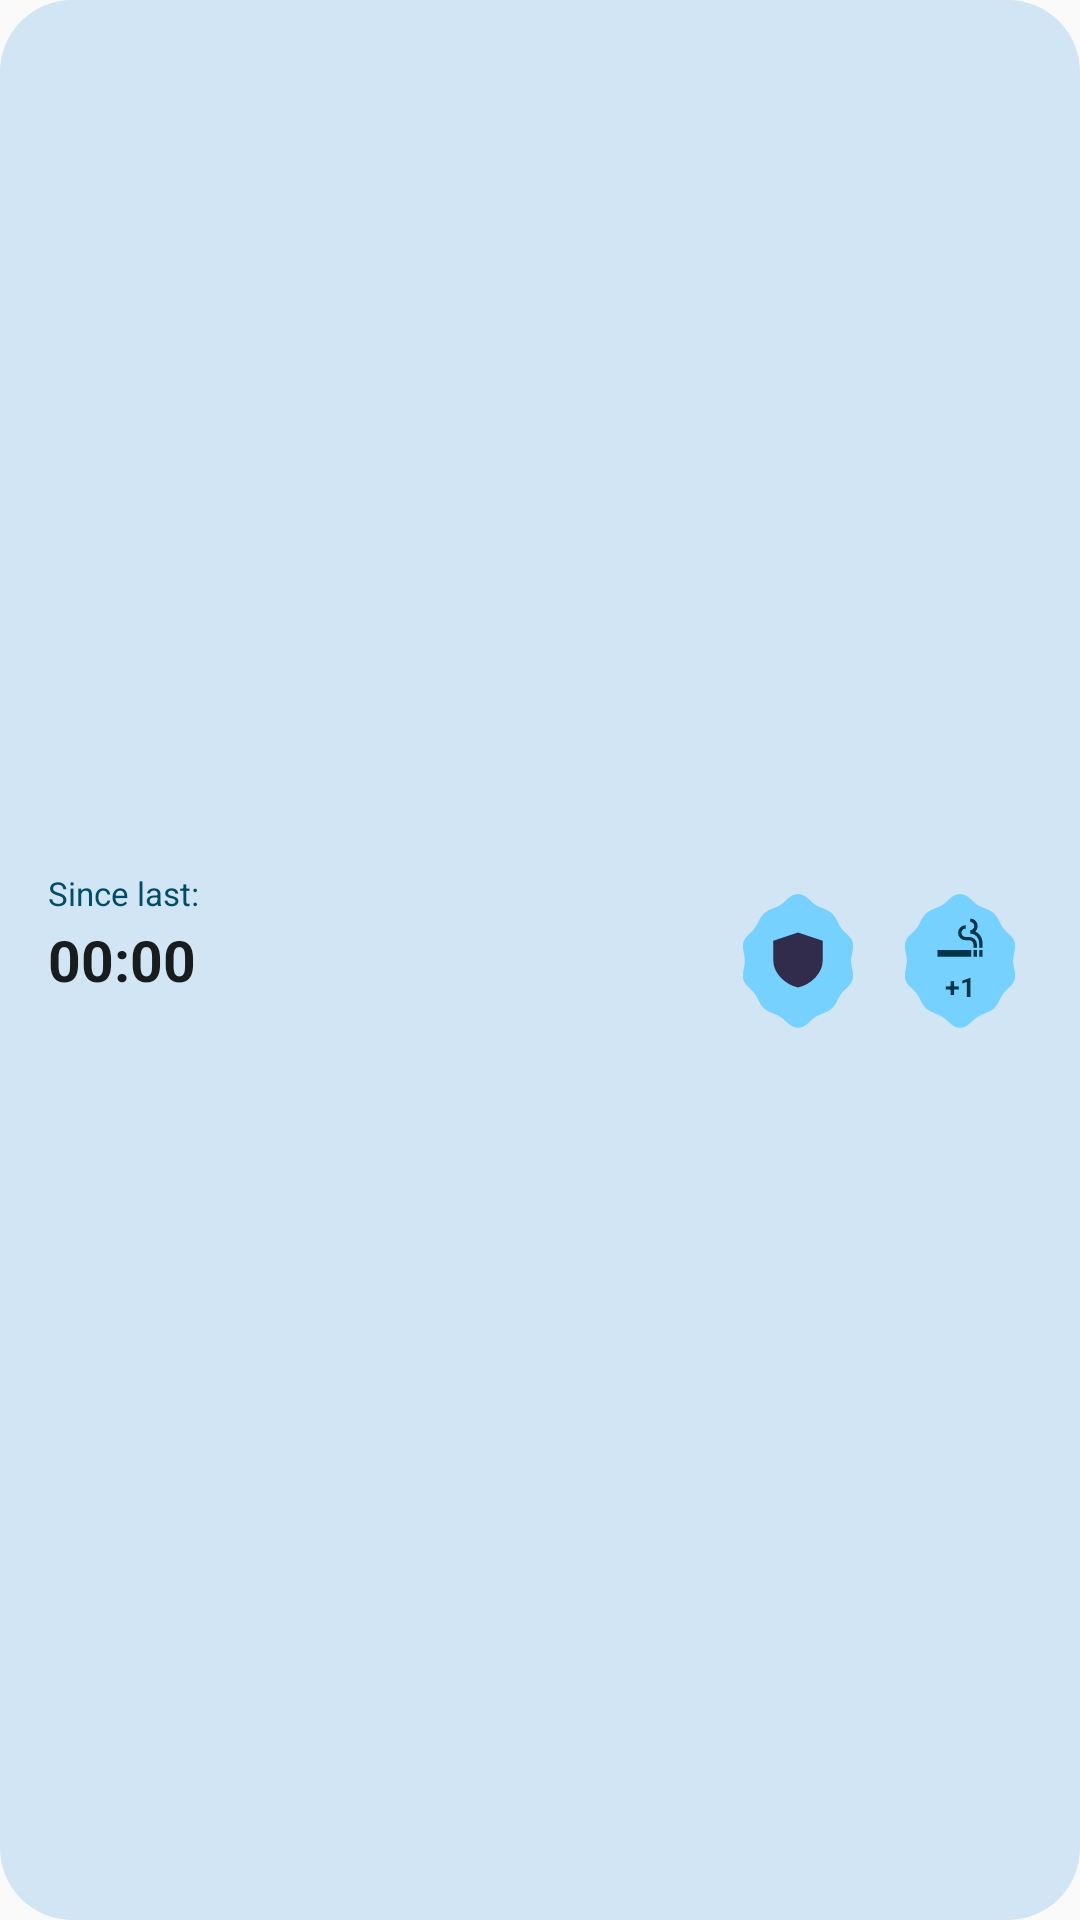

Where to tap for icons on this 1080px x 1920px app screen, as [x,y]:
cigarettebase: [960,937]
Resisted: [798,960]
